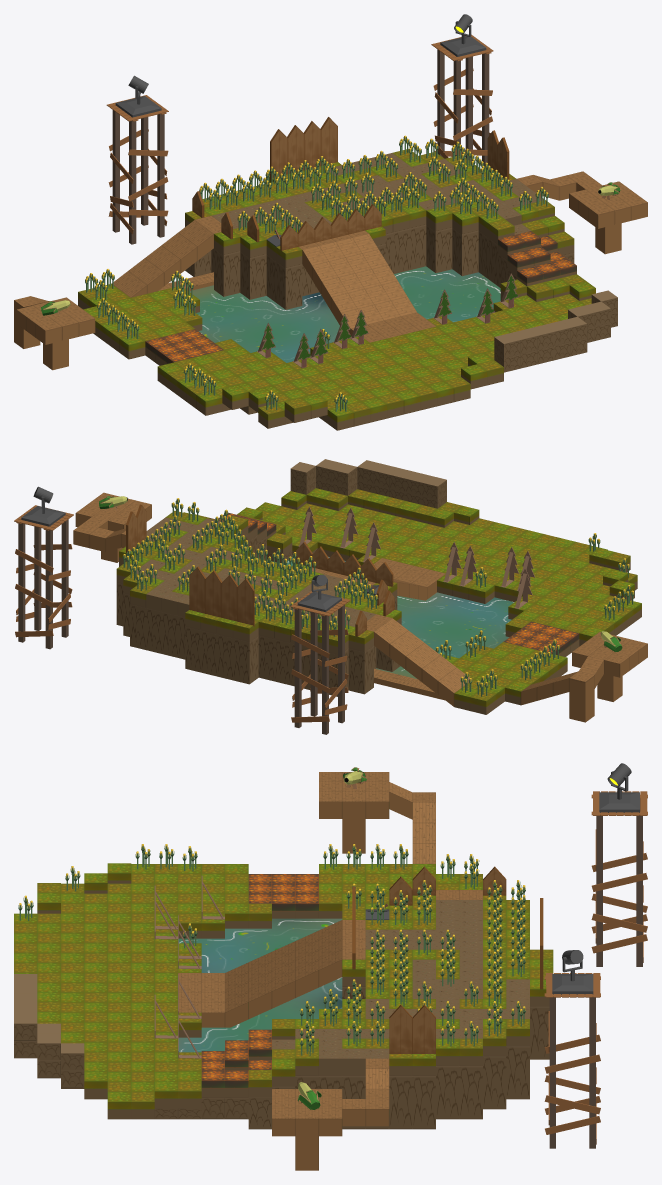
Rendered from Level 5.fbx.
3 renders of one model, top to bottom at view 1: azimuth 30°, elevation 25°; view 2: azimuth 150°, elevation 25°; view 3: azimuth 270°, elevation 25°, orthographic. The views are drawn at different scales.
Parts seen in each view (by area): view 1: Plane, Cliff, Tower, Level5.547, Tower.001, Level5.752, Level5.692, Fences.010, Fences.013, Fences.012, Level5.746, Fences.011 (+2 smaller); view 2: Cliff, Plane, Tower.001, Tower, Level5.547, Level5.746, Bridge_Down.045, Fences.010, Fences.013, Fences.011, Fences.012, Level5.692 (+15 smaller); view 3: Cliff, Plane, Tower, Tower.001, Level5.547, Fences.016, Fences.015, Level5.692, Level5.752, Cube.040, Cube.047, Level5.608 (+36 smaller).
Part boxes in pixels (x1,y1,x2,y2): Plane: [190, 266, 500, 362]; Cliff: [185, 224, 574, 309]; Tower: [106, 95, 168, 244]; Level5.547: [494, 290, 617, 372]; Tower.001: [431, 34, 493, 166]; Level5.752: [595, 195, 621, 254]; Level5.692: [43, 310, 68, 370]; Fences.010: [270, 129, 287, 179]; Fences.013: [320, 117, 337, 165]; Fences.012: [304, 121, 321, 169]; Level5.746: [14, 296, 40, 348]; Fences.011: [287, 125, 304, 173]; Cliff: [116, 533, 400, 696]; Plane: [271, 556, 514, 678]; Tower.001: [14, 505, 73, 649]; Tower: [290, 591, 350, 734]; Level5.547: [290, 459, 446, 508]; Level5.746: [569, 671, 594, 722]; Bridge_Down.045: [374, 668, 444, 700]; Fences.010: [237, 578, 254, 626]; Fences.013: [189, 566, 205, 613]; Fences.011: [221, 574, 238, 621]; Fences.012: [205, 570, 222, 617]; Level5.692: [597, 645, 622, 701]; Cliff: [154, 987, 549, 1129]; Plane: [178, 918, 342, 1052]; Tower: [591, 791, 647, 966]; Tower.001: [544, 973, 600, 1148]; Level5.547: [14, 974, 84, 1087]; Fences.016: [412, 1004, 435, 1053]; Fences.015: [389, 1005, 412, 1053]; Level5.692: [342, 781, 365, 853]; Level5.752: [295, 1099, 318, 1170]; Cube.040: [599, 792, 639, 812]; Cube.047: [552, 974, 593, 994]; Level5.608: [107, 1092, 131, 1119].
Bounding box in the file's own units: 7000 × 1854 × 5407.
Materials: 17 (10 with a texture image).
